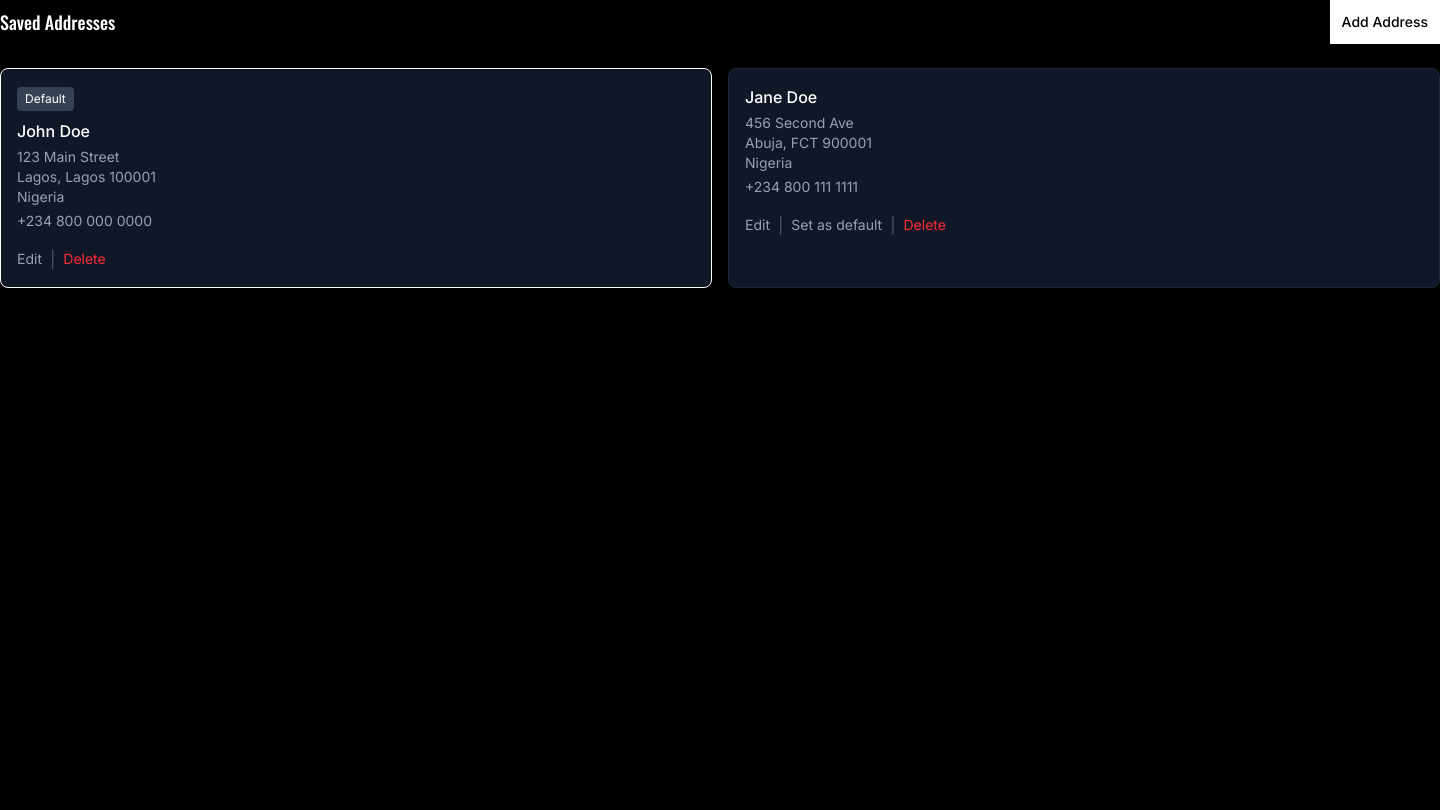
AddressBook › opens add address modal when clicking Add Address button
Click the button "Add Address" at (1385, 22), box [1330,0,1439,44]
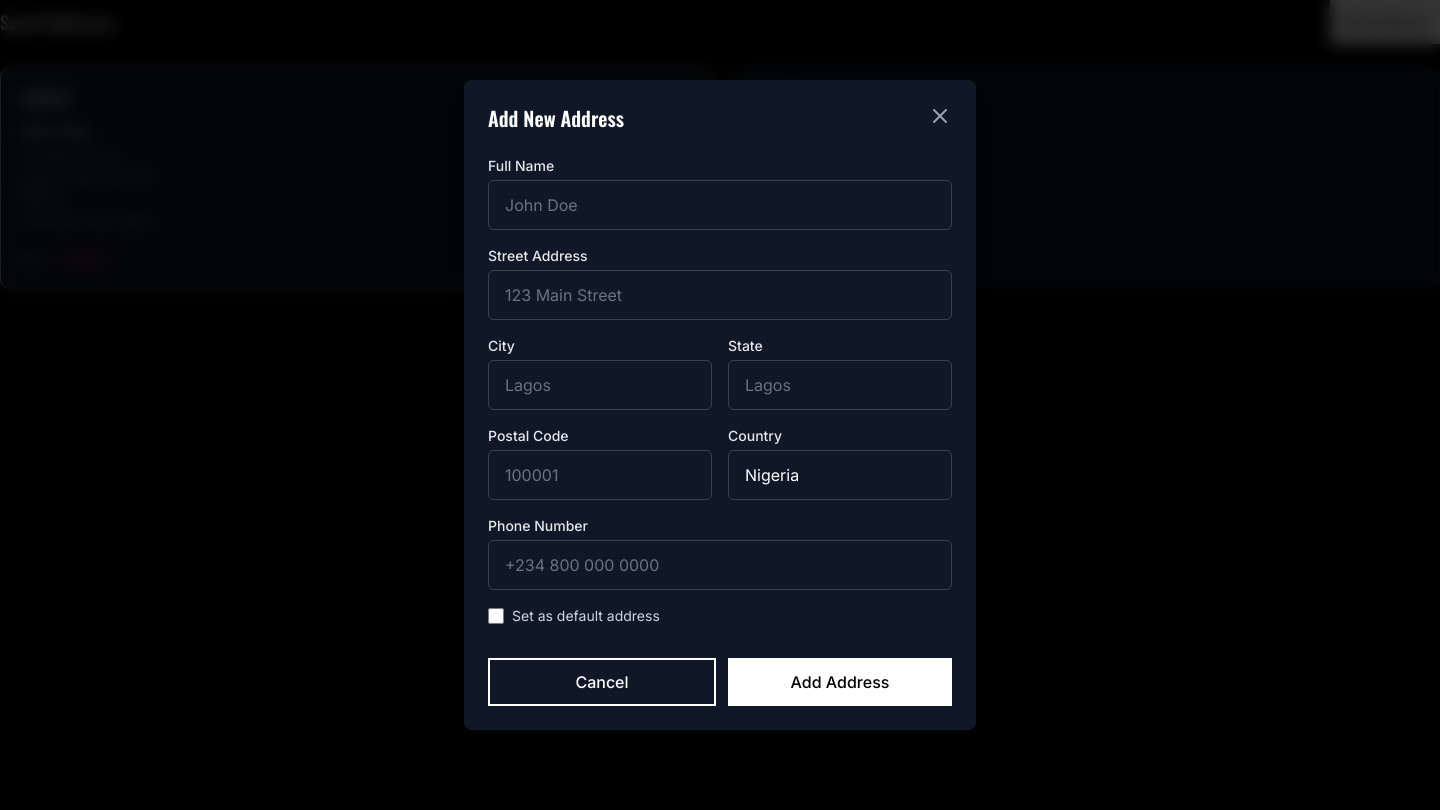
Expected: the heading "Add New Address" is shown, [488,103,624,133]
